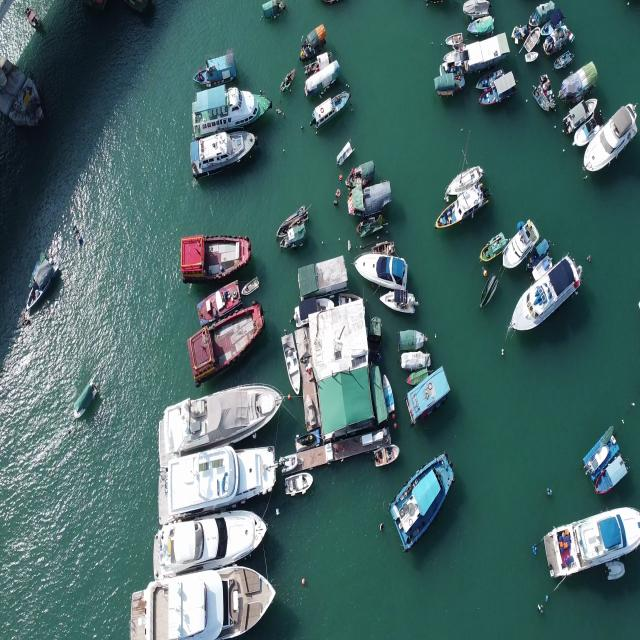ship: (132, 566, 272, 634), (158, 380, 282, 441), (540, 502, 638, 577), (158, 444, 278, 505), (390, 446, 455, 554), (190, 304, 262, 386), (510, 252, 584, 330), (154, 511, 269, 560), (582, 100, 638, 183), (191, 88, 271, 136), (173, 234, 256, 275), (191, 131, 255, 183), (21, 240, 64, 315), (356, 254, 412, 288), (312, 87, 353, 131), (279, 471, 319, 497), (70, 382, 100, 413), (481, 229, 506, 264), (382, 374, 398, 421), (479, 275, 499, 309), (371, 440, 401, 460), (280, 224, 305, 248), (392, 331, 427, 348), (387, 354, 432, 367), (337, 138, 353, 168), (524, 46, 539, 62)
